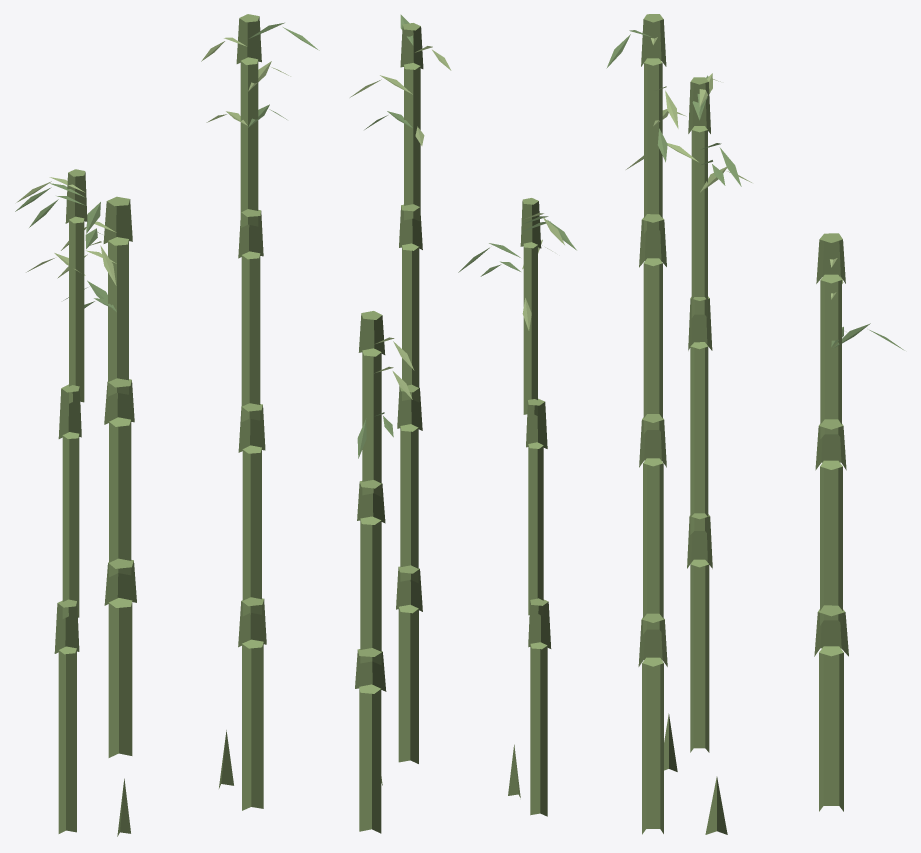
Rendered from shu.maozhu__spring.glb.
3 renders of one model, left to right at view 1: azimuth 30°, elevation 25°; view 2: azimuth 150°, elevation 25°; view 3: azimuth 270°, elevation 25°, orthographic. The views are drawn at different scales.
Visible parts, largest first — view 1: shu.maozhu__spring; view 2: shu.maozhu__spring; view 3: shu.maozhu__spring.
Boxes of the visible parts, <box> form: shu.maozhu__spring: <box>15,14,319,836</box>; shu.maozhu__spring: <box>350,14,576,833</box>; shu.maozhu__spring: <box>606,14,904,834</box>.
Bounding box in the file's own units: 3.12 × 9.07 × 3.03.
